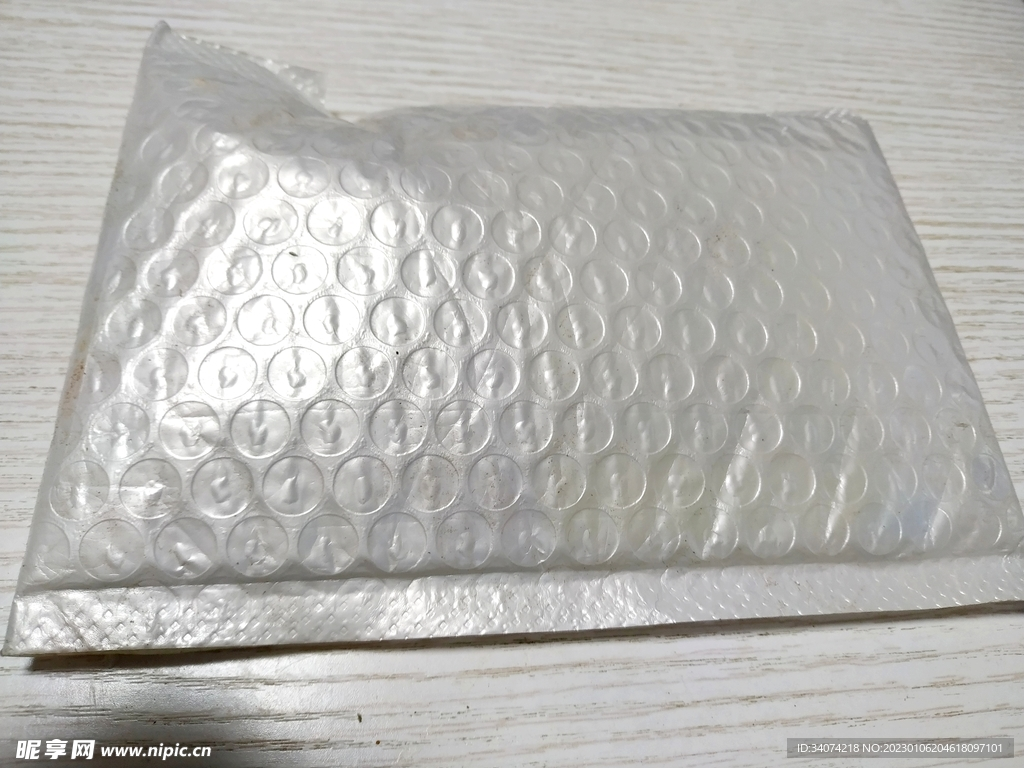Parcel: (6, 27, 1024, 656)
